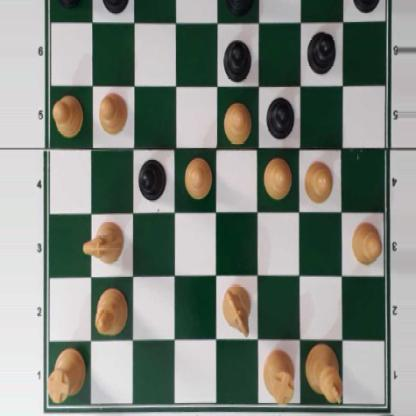black-bishop: (225, 0, 254, 16)
black-pawn: (222, 35, 252, 81), (307, 29, 335, 74), (266, 94, 294, 139), (138, 156, 166, 200), (351, 0, 383, 13), (100, 0, 128, 13), (52, 0, 82, 6)
white-bishop: (95, 286, 129, 337)
white-king: (305, 342, 342, 406)
white-knight: (81, 221, 125, 264), (222, 282, 253, 337)
white-pawn: (349, 220, 382, 266), (304, 157, 334, 204), (221, 100, 252, 143), (53, 94, 84, 137), (98, 91, 128, 135), (263, 156, 292, 200), (184, 157, 212, 199)
white-rook: (46, 346, 87, 402), (263, 350, 295, 404)
